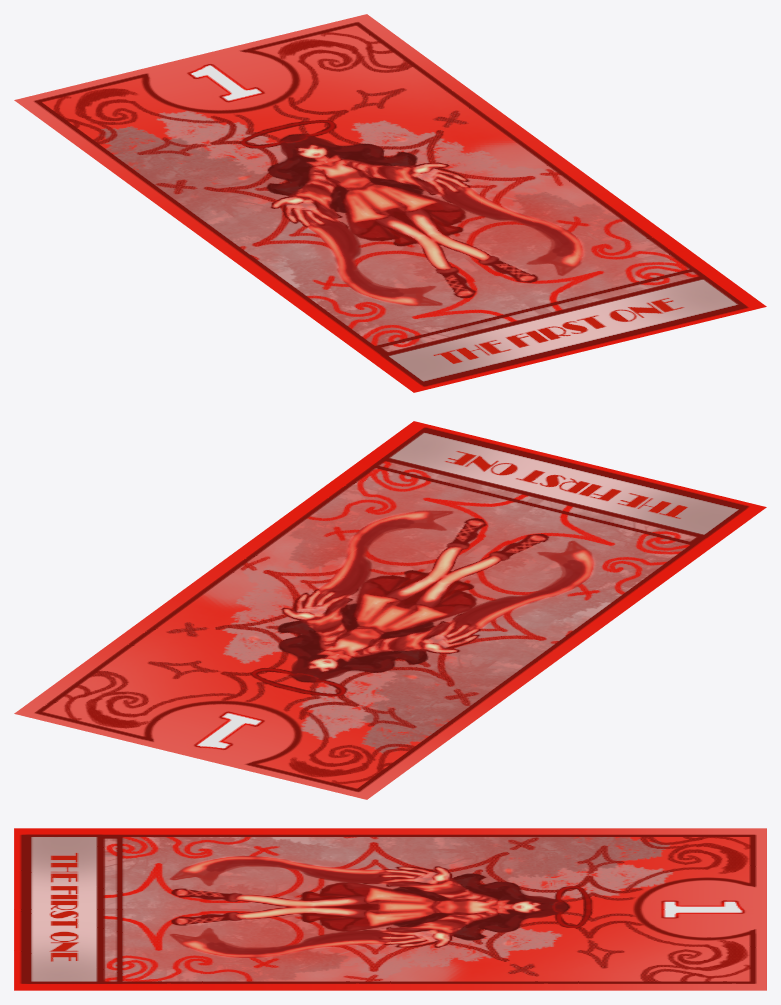
Rendered from CARE TAROT.fbx.
The picture shows the model from 3 angles, top to bottom: view 1: azimuth 30°, elevation 25°; view 2: azimuth 150°, elevation 25°; view 3: azimuth 270°, elevation 25°; orthographic projection. The views are drawn at different scales.
Parts seen in each view (by area): view 1: Plane002; view 2: Plane002; view 3: Plane002.
Boxes of the visible parts, x1,y1,x2,y2 form: Plane002: (14, 14, 766, 392); Plane002: (14, 421, 766, 799); Plane002: (14, 828, 766, 990).
Size of the model in its own units: 0.1946 by 0 by 0.3819.
